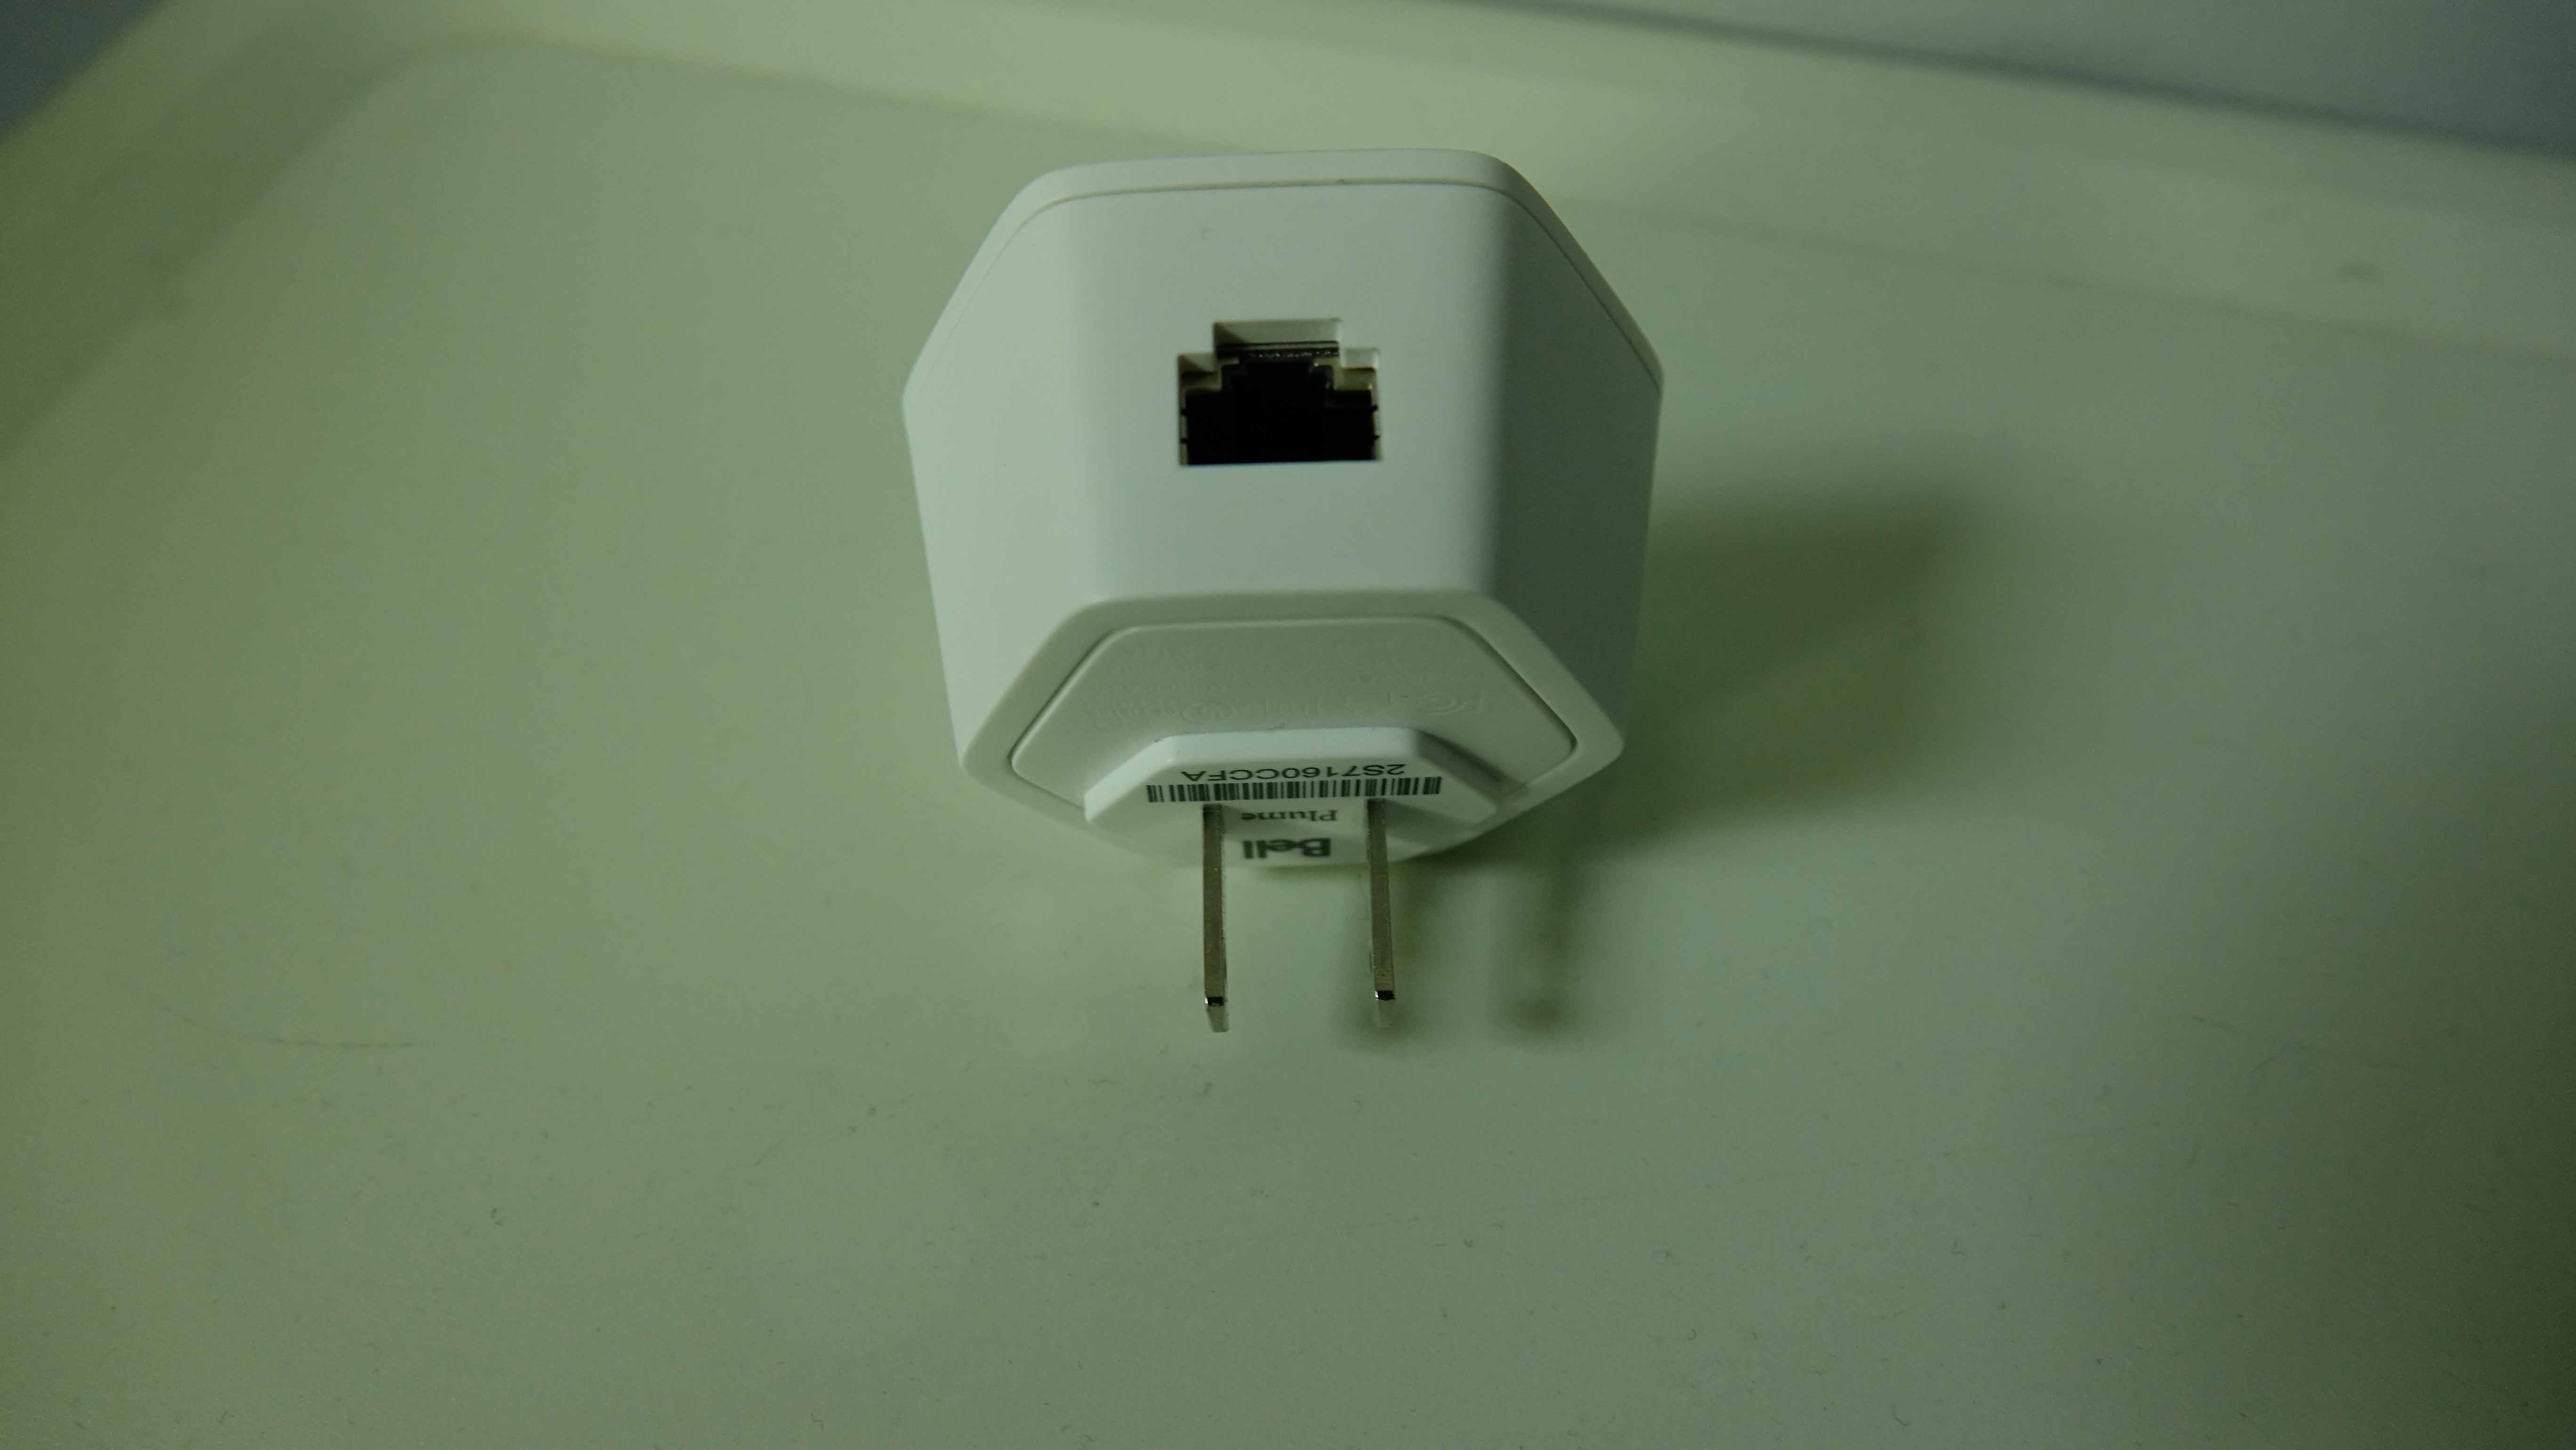pod: (886, 145, 1693, 1057)
